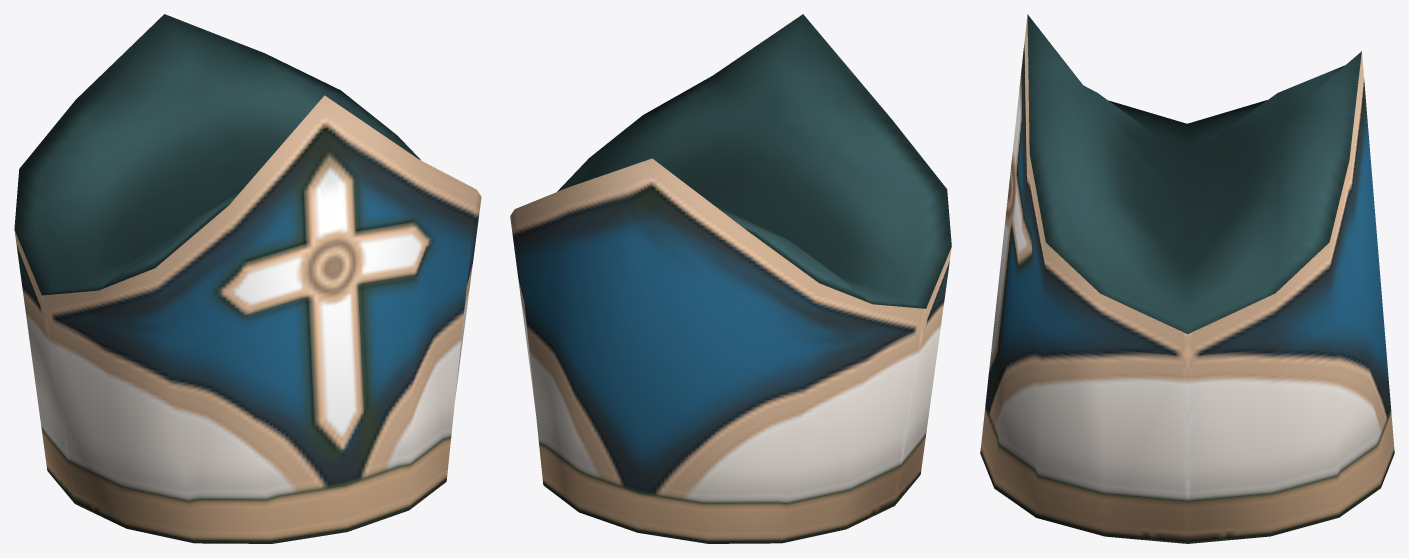
The model's file is Priest_cap.FBX.
3 renders of one model, left to right at view 1: azimuth 30°, elevation 25°; view 2: azimuth 150°, elevation 25°; view 3: azimuth 270°, elevation 25°, orthographic. The views are drawn at different scales.
Visible parts, largest first — view 1: Priests_cap; view 2: Priests_cap; view 3: Priests_cap.
Boxes of the visible parts, x1=… form: Priests_cap: x1=14, y1=14, x2=481, y2=543; Priests_cap: x1=510, y1=14, x2=951, y2=543; Priests_cap: x1=980, y1=14, x2=1394, y2=543.
Bounding box in the file's own units: 80.87 × 79.1 × 67.28.
